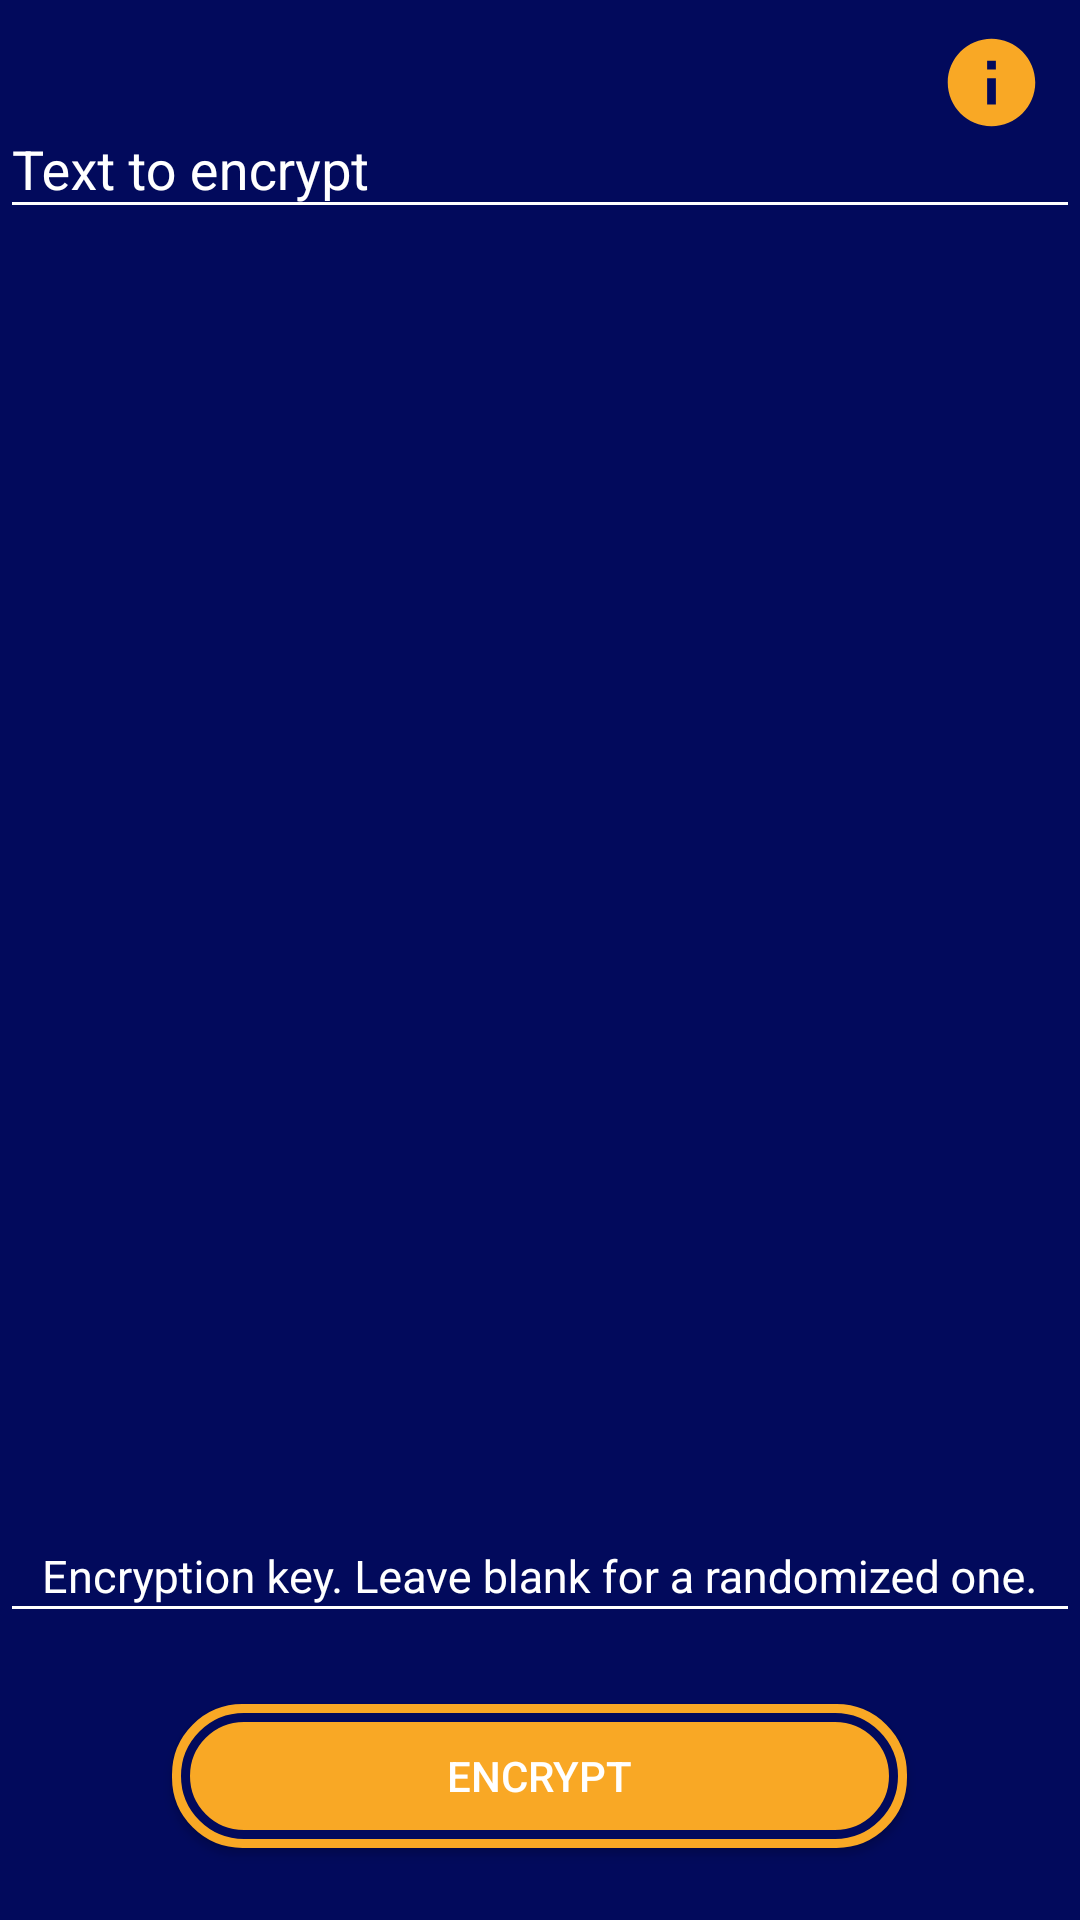

Locate icon controls on the screen. Image size 1080w x 1920h, boxes as bbox(x1, y1, x2, y2).
info: bbox(947, 38, 1036, 127)
